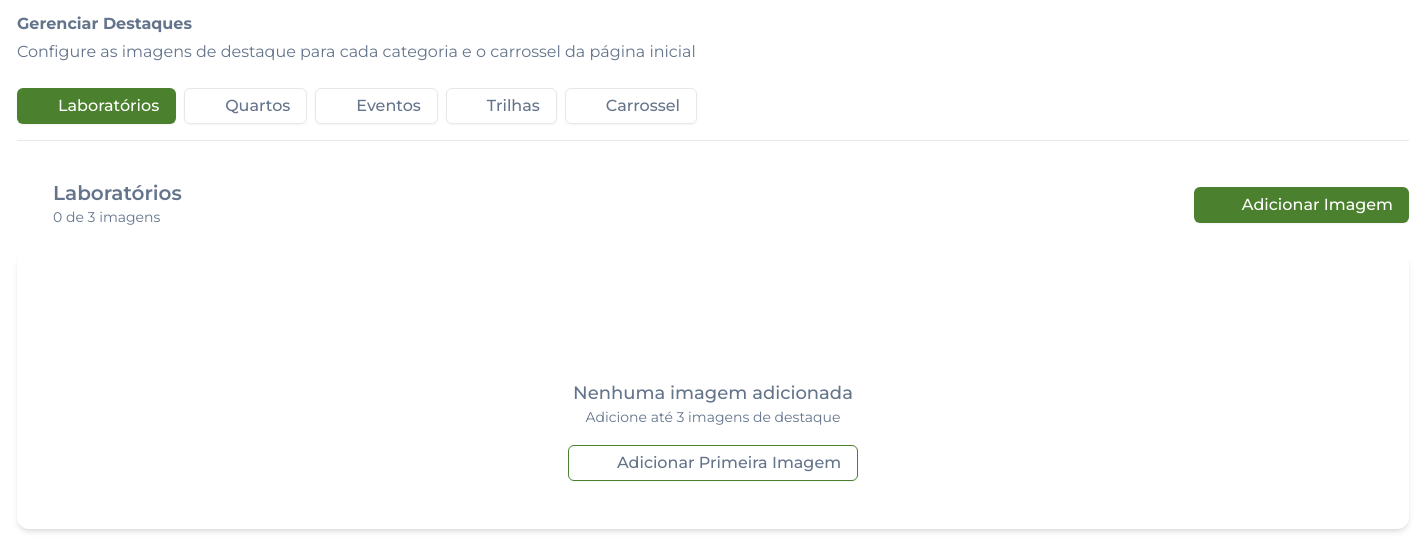
it: Admin Highlights Route › falls back to generic category info when category identifiers drift
This screenshot has width=1427, height=550.
Click the button "Carrossel".
click(631, 106)  # box x1=565 y1=88 x2=697 y2=124
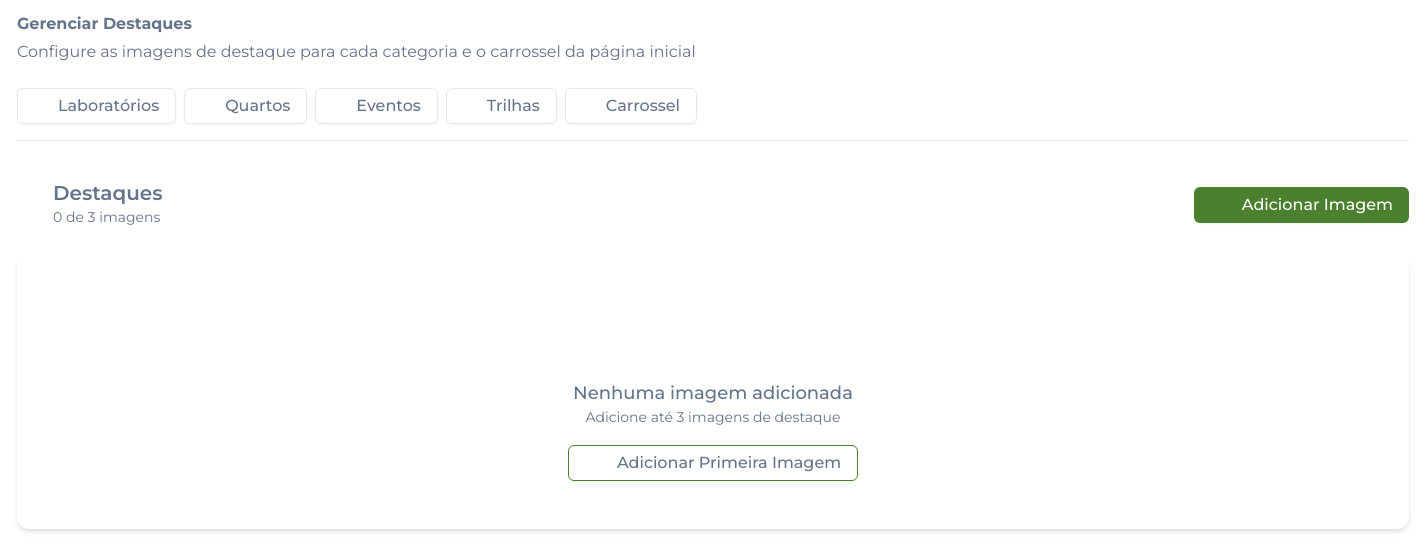
Now the heading "Destaques" is shown, box x1=53 y1=181 x2=163 y2=205
